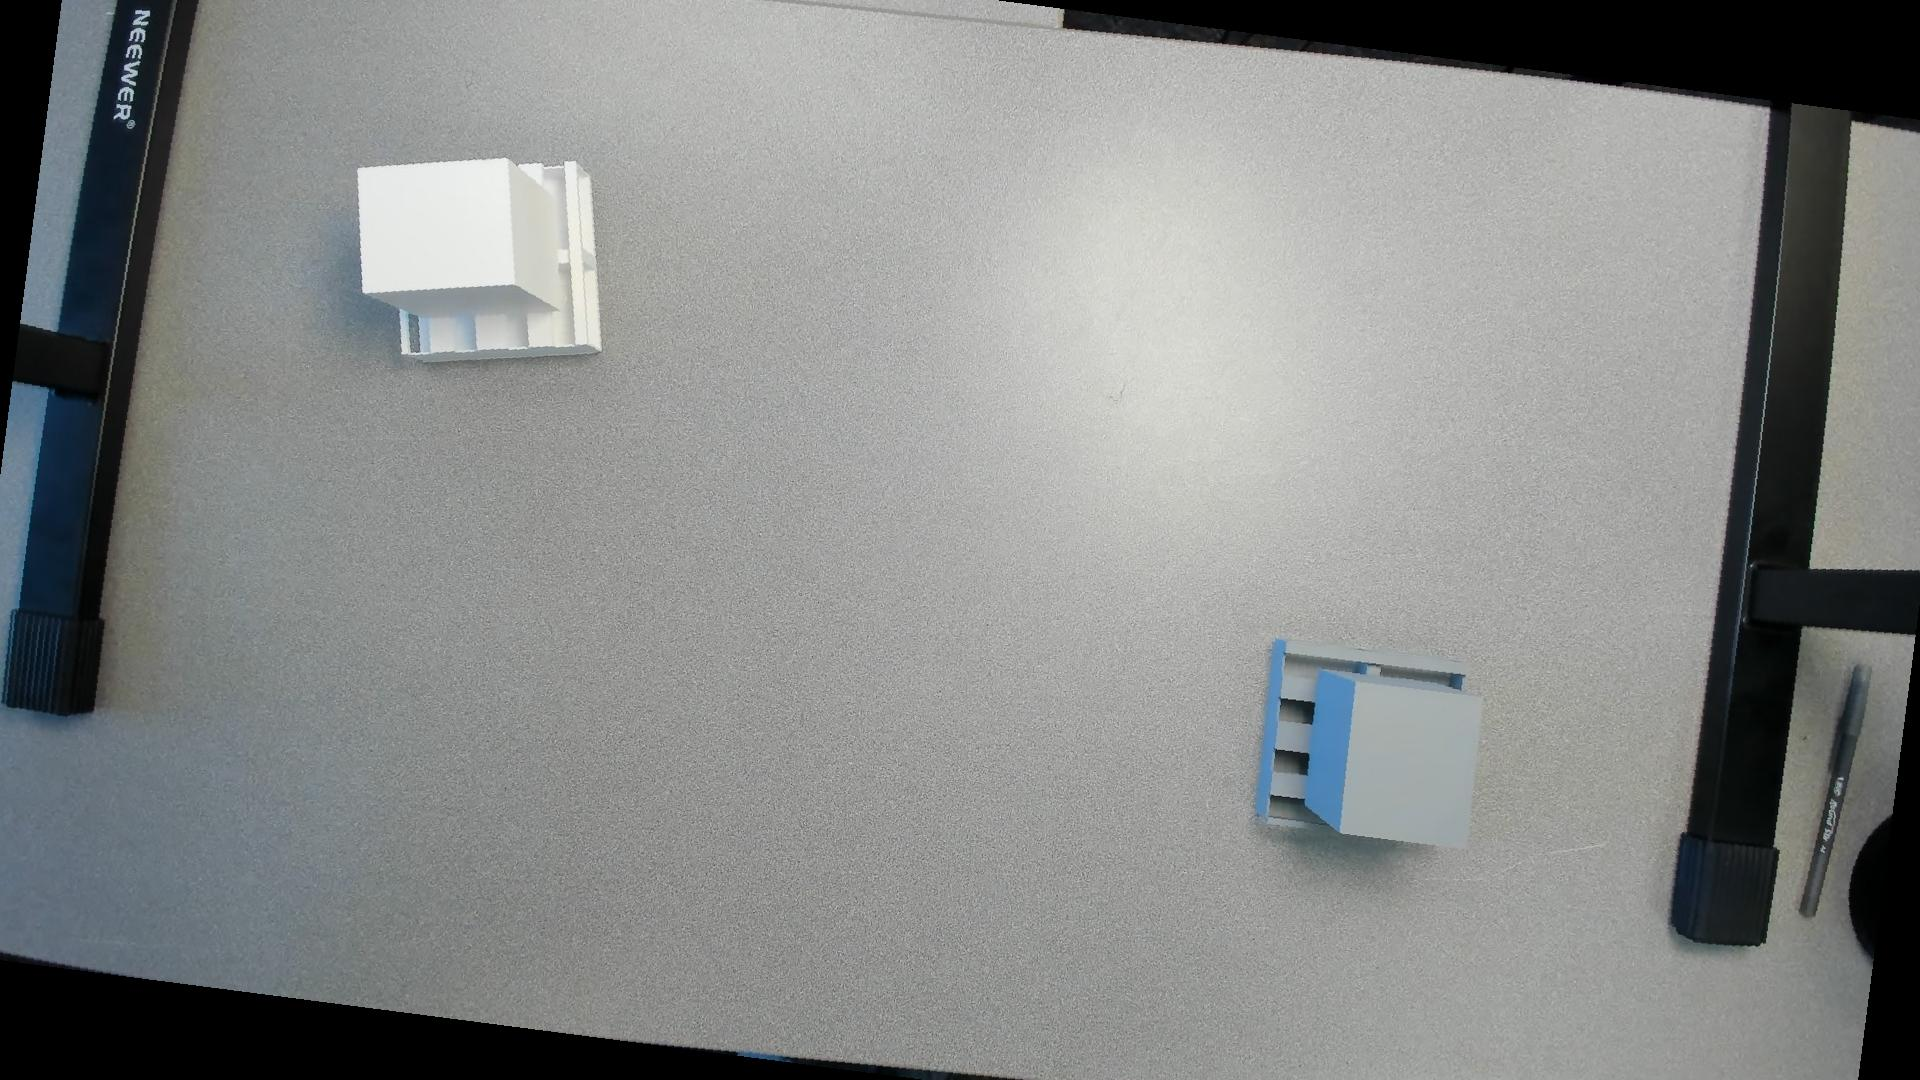grey pallet: (1251, 620, 1487, 880)
white pallet: (345, 157, 618, 369)
